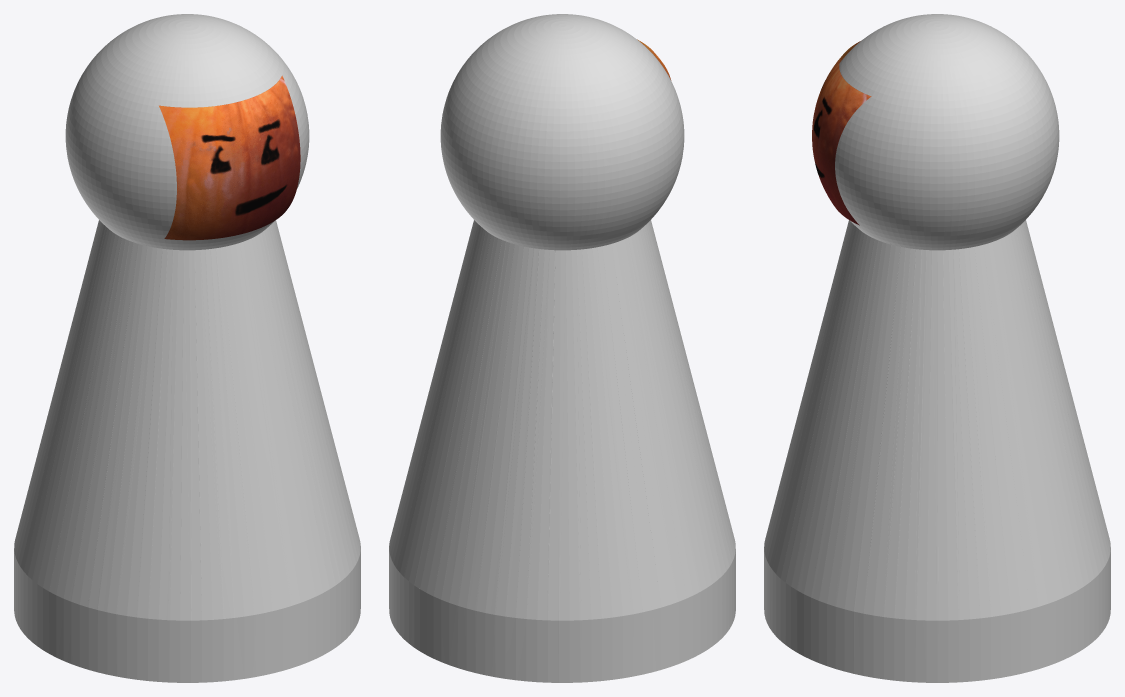
The model's file is piece_filled.fbx.
The picture shows the model from 3 angles, left to right: view 1: azimuth 30°, elevation 25°; view 2: azimuth 150°, elevation 25°; view 3: azimuth 270°, elevation 25°; orthographic projection.
Visible parts, largest first — view 1: Playing Piece, Plane; view 2: Playing Piece; view 3: Playing Piece, Plane.
Part boxes in pixels (<box>): Playing Piece: <box>14,14,360,682</box>; Plane: <box>159,75,300,240</box>; Playing Piece: <box>389,14,735,682</box>; Playing Piece: <box>764,14,1110,682</box>; Plane: <box>812,41,871,225</box>.
Bounding box in the file's own units: 1280 × 2380 × 1280.
Materials: 1 (1 with a texture image).
